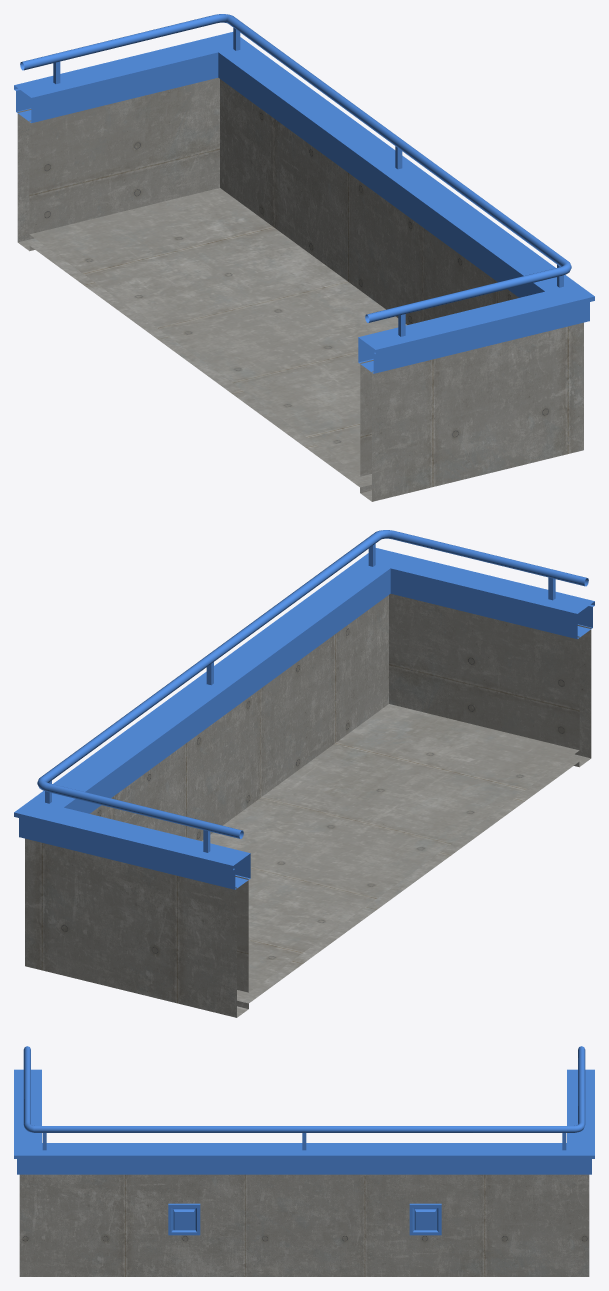
File: AE_Balcony_01.fbx
3 views of the same model, one above another, from view 1: azimuth 30°, elevation 25°; view 2: azimuth 150°, elevation 25°; view 3: azimuth 270°, elevation 25° (orthographic). The views are drawn at different scales.
Parts seen in each view (by area): view 1: AE_Balcony_01; view 2: AE_Balcony_01; view 3: AE_Balcony_01.
Part boxes in pixels (box(x1,y1,x2,y2)): AE_Balcony_01: box(14, 14, 594, 501); AE_Balcony_01: box(14, 530, 594, 1017); AE_Balcony_01: box(14, 1046, 594, 1276).
Size of the model in its own units: 171 by 137 by 488.
